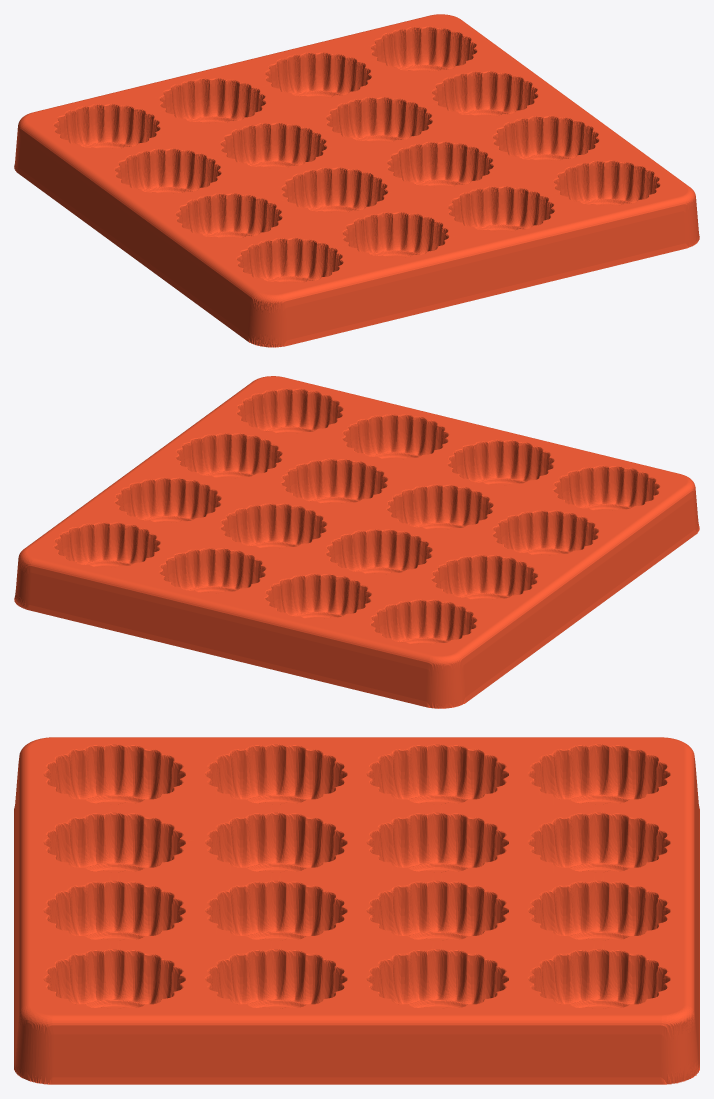
File: mold.glb
3 renders of one model, top to bottom at view 1: azimuth 30°, elevation 25°; view 2: azimuth 150°, elevation 25°; view 3: azimuth 270°, elevation 25°, orthographic. The views are drawn at different scales.
Parts seen in each view (by area): view 1: geometry_0; view 2: geometry_0; view 3: geometry_0.
Part boxes in pixels (x1,y1,x2,y2): geometry_0: (14,14,699,347); geometry_0: (14,376,699,708); geometry_0: (14,737,699,1084).
Size of the model in its own units: 0.1569 by 0.0159 by 0.1569.
